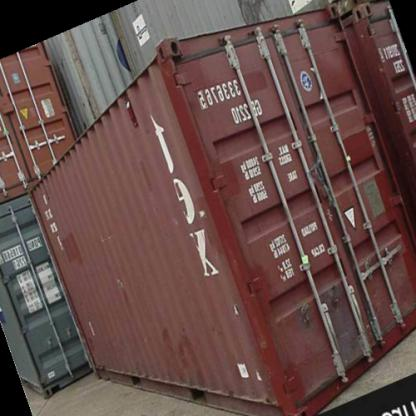Damage: (306, 289, 362, 358), (180, 336, 202, 368), (94, 223, 122, 244), (224, 300, 246, 320), (188, 202, 214, 218), (112, 274, 132, 294), (86, 313, 100, 341), (152, 322, 172, 340)
